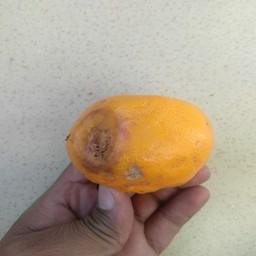Bad_orange: (58, 88, 216, 193)
